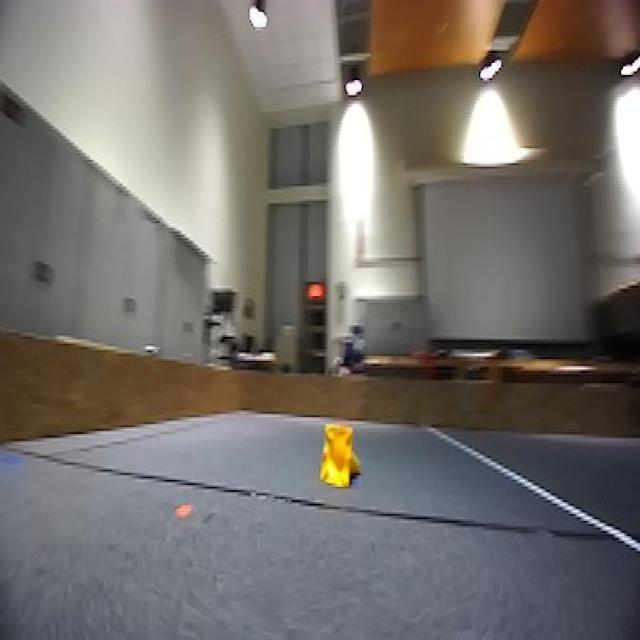frc_cone: (315, 420, 365, 497)
